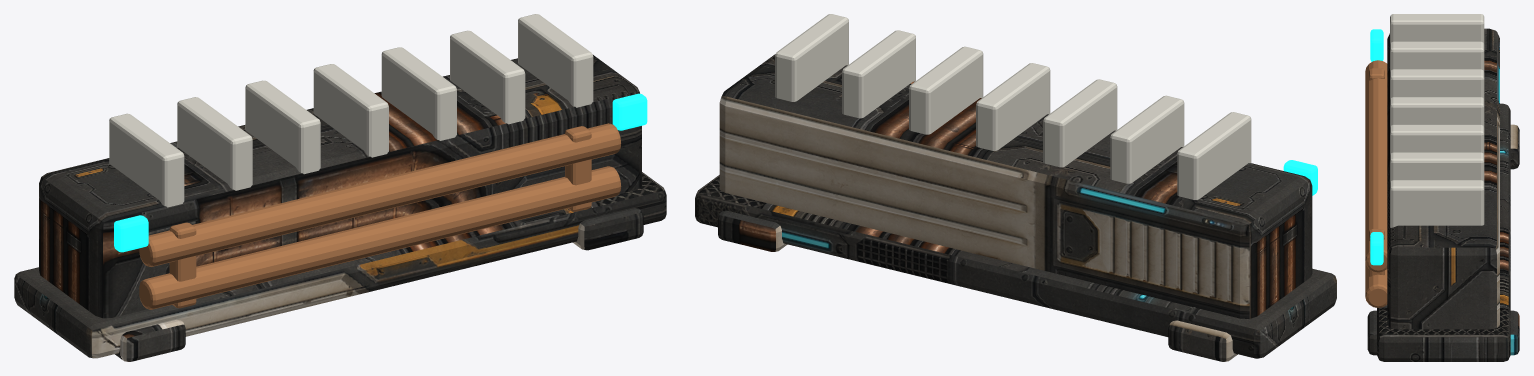
Rendered from CoolantBaffleModel.fbx.
3 views of the same model, side by side, from view 1: azimuth 30°, elevation 25°; view 2: azimuth 150°, elevation 25°; view 3: azimuth 270°, elevation 25° (orthographic). The views are drawn at different scales.
Visible parts, largest first — view 1: Coolant Baffle Armor, Coolant Baffle Fins, Coolant Baffle Pipes, Coolant Baffle Lights; view 2: Coolant Baffle Armor, Coolant Baffle Fins, Coolant Baffle Lights; view 3: Coolant Baffle Armor, Coolant Baffle Fins, Coolant Baffle Pipes, Coolant Baffle Lights.
Boxes of the visible parts, left/top/right/bottom form: Coolant Baffle Armor: left=14, top=55, right=666, bottom=361; Coolant Baffle Fins: left=109, top=14, right=593, bottom=207; Coolant Baffle Pipes: left=139, top=123, right=621, bottom=309; Coolant Baffle Lights: left=114, top=93, right=647, bottom=252; Coolant Baffle Armor: left=695, top=54, right=1336, bottom=361; Coolant Baffle Fins: left=775, top=14, right=1251, bottom=199; Coolant Baffle Lights: left=1283, top=160, right=1317, bottom=195; Coolant Baffle Armor: left=1367, top=28, right=1519, bottom=361; Coolant Baffle Fins: left=1390, top=14, right=1484, bottom=227; Coolant Baffle Pipes: left=1365, top=60, right=1387, bottom=307; Coolant Baffle Lights: left=1370, top=29, right=1383, bottom=265.
Bounding box in the file's own units: 4.25 × 1.3 × 1.18.
4 materials, 1 textured.
